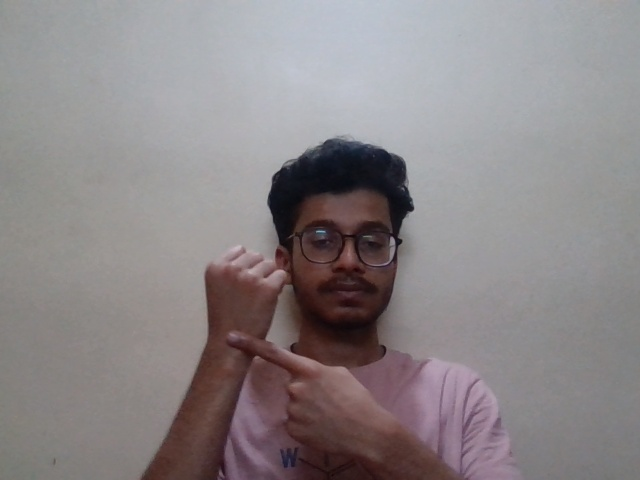time: (188, 245, 364, 450)
